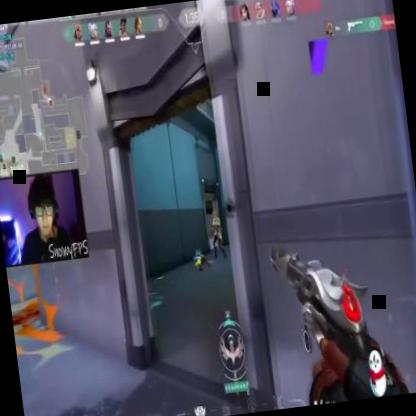enemy: (208, 207, 227, 260)
enemy_head: (212, 208, 218, 218)
